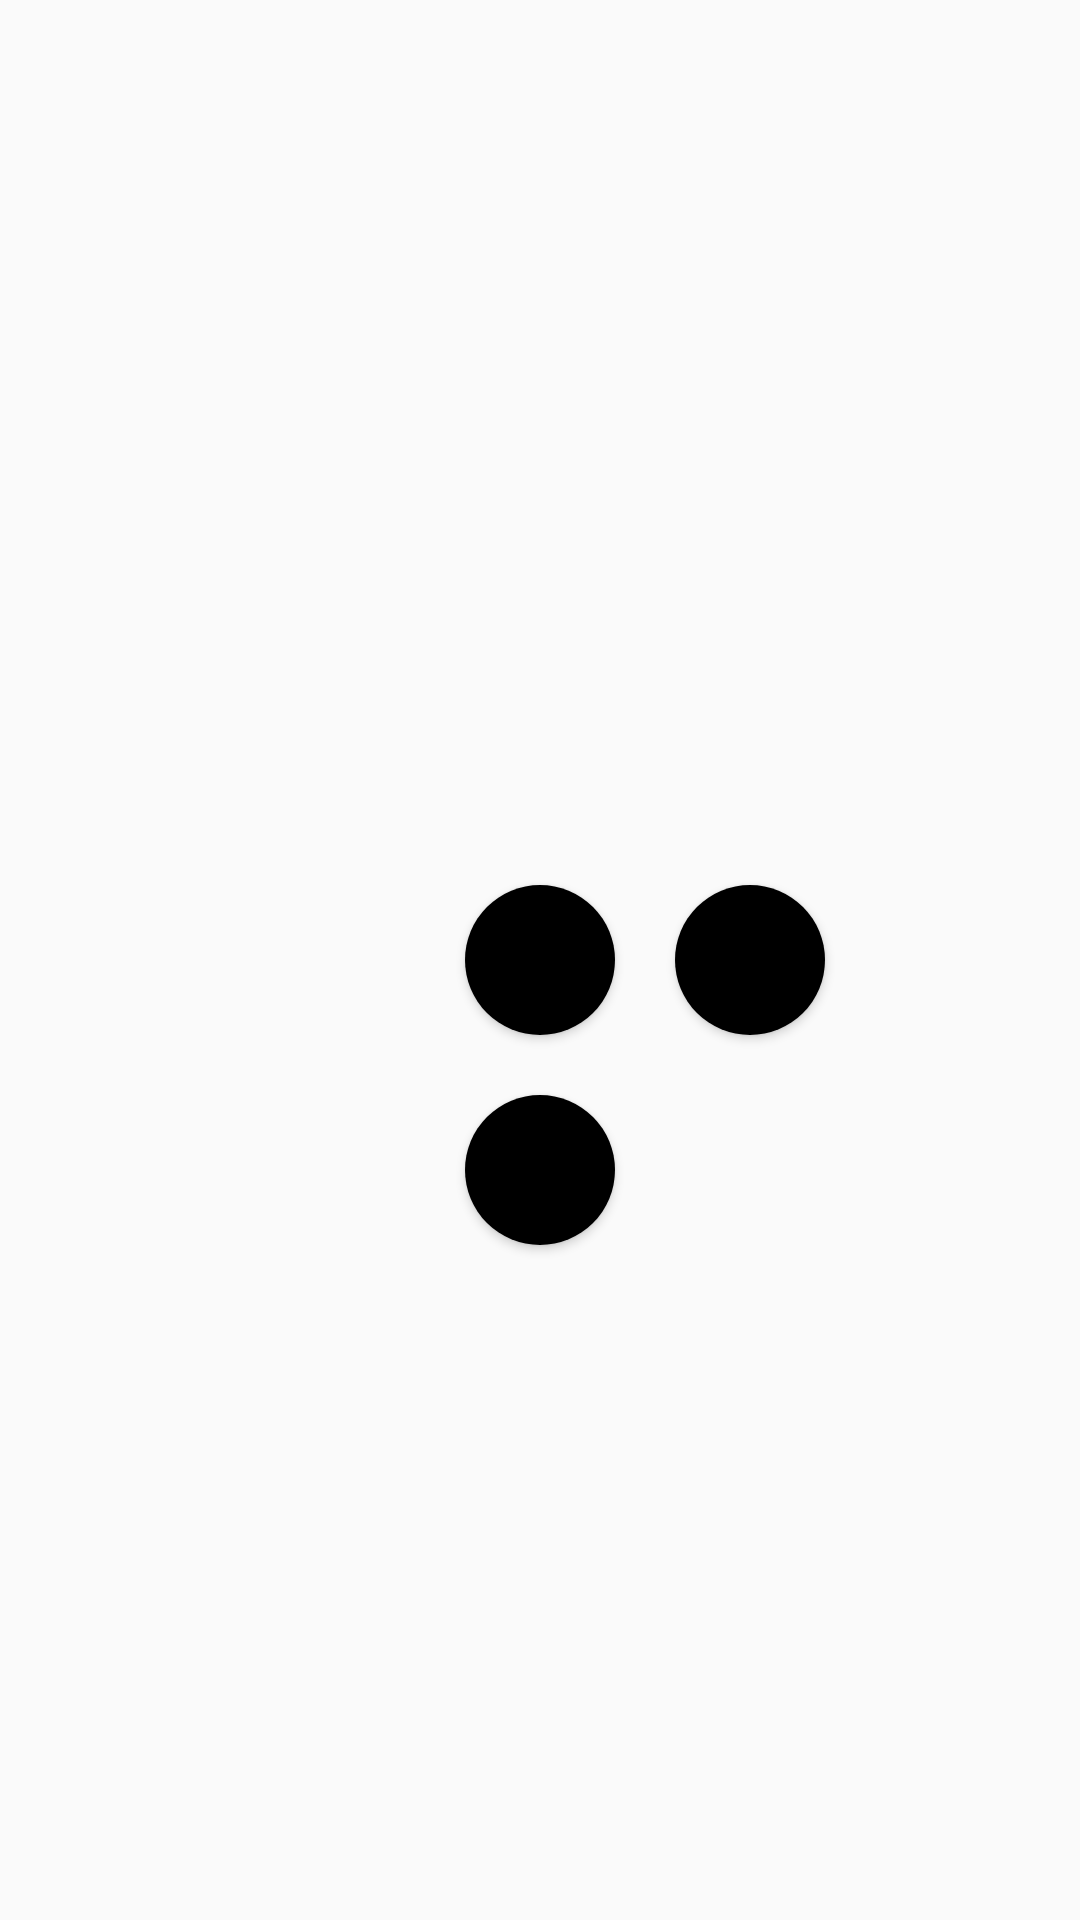

Point at icon controls on the screen. Image size 1080px×1920px, points as point (x, y).
bolinha: point (540, 960), point (750, 960), point (540, 1170)
